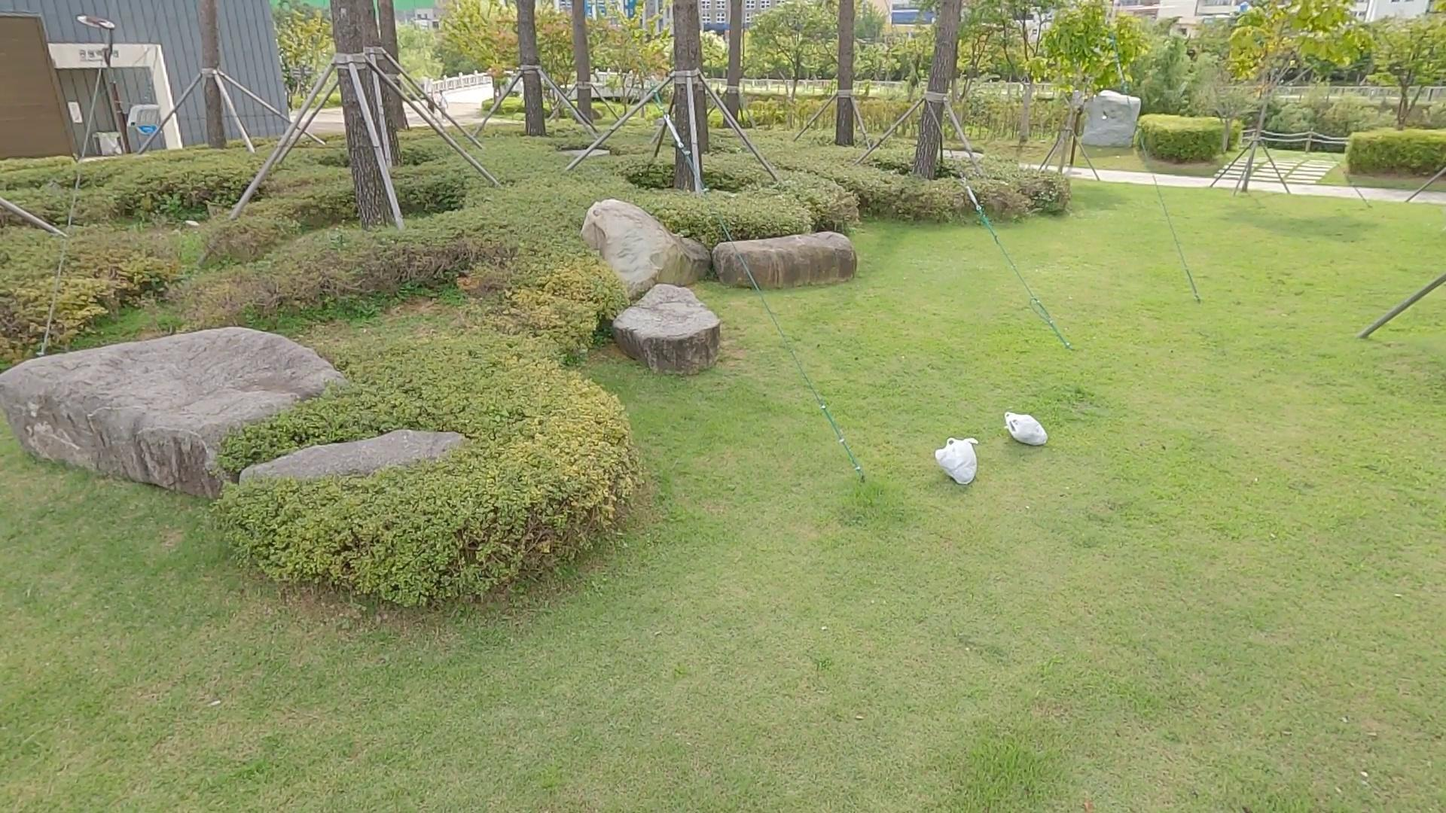trash: (931, 429, 981, 494), (1003, 401, 1051, 463)
